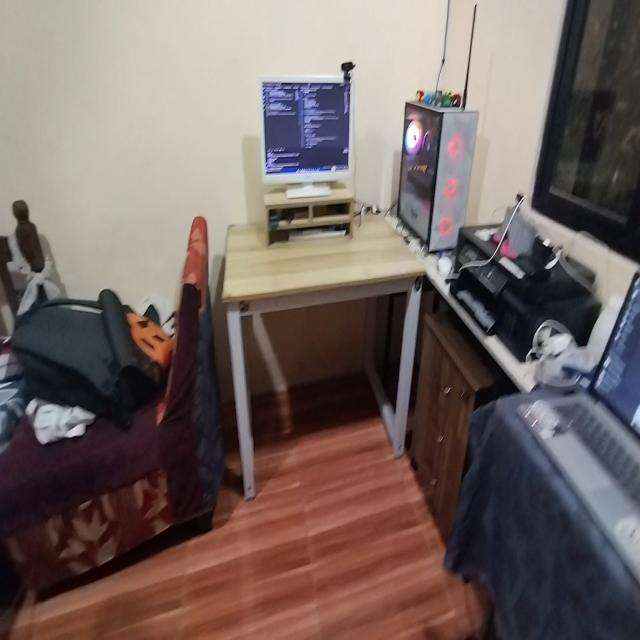table: (219, 206, 431, 504)
